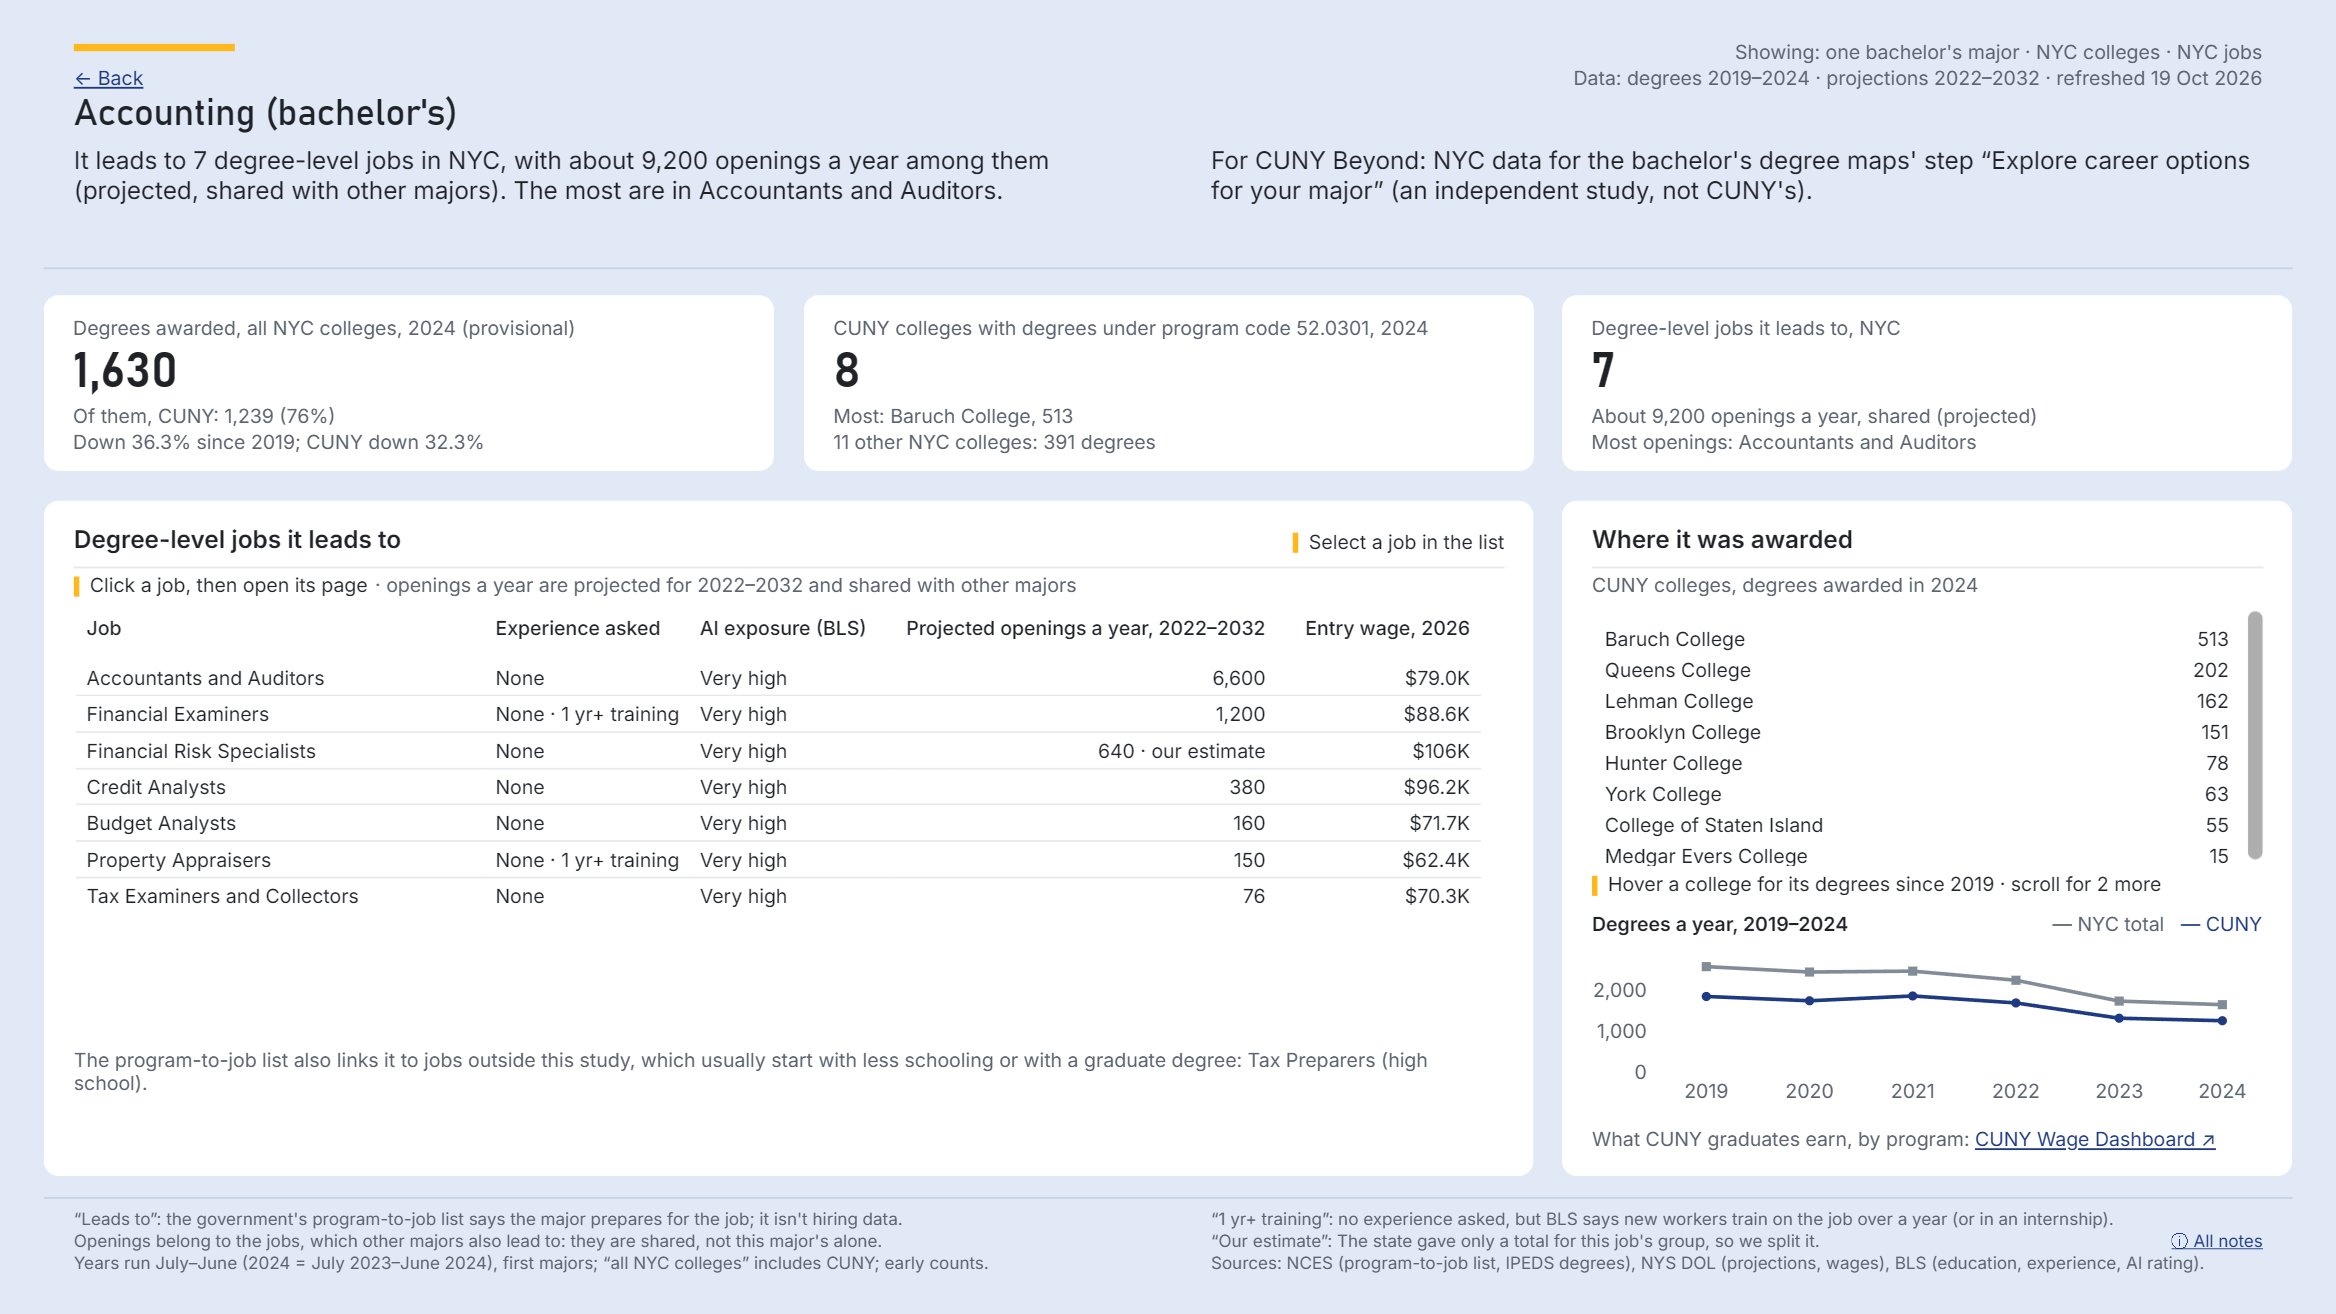

The dashboard page shown, as its layout file describes it:
{"tool":"powerbi","page":{"name":"Major page","canvas":[1280,720],"ordinal":7},"visuals":[{"type":"shape","box":[40,24,88,4],"z":2000},{"type":"actionButton","box":[40,36,60,16],"z":3000},{"type":"shape","box":[40,50,576,52],"z":4000},{"type":"shape","box":[40,104,576,38],"z":5000},{"type":"shape","box":[664,22,576,14],"z":6000},{"type":"shape","box":[664,36,576,14],"z":7000},{"type":"textbox","box":[664,80,576,52],"z":8000},{"type":"shape","box":[24,146,1232,1],"z":9000},{"type":"shape","box":[40,80,576,52],"z":10000},{"type":"image","box":[24,162,400,96],"z":11000},{"type":"image","box":[440,162,400,96],"z":12000},{"type":"image","box":[856,162,400,96],"z":13000},{"type":"shape","box":[24,274,816,370],"z":14000},{"type":"textbox","box":[40,288,560,18],"z":15000},{"type":"actionButton","box":[684,284,140,26],"z":16000},{"type":"image","box":[708,292,3,11],"z":17000},{"type":"shape","box":[40,310,784,1],"z":18000},{"type":"image","box":[40,316,3,11],"z":19000},{"type":"shape","box":[49,314,157,16],"z":20000},{"type":"shape","box":[206,314,618,16],"z":21000},{"type":"tableEx","fields":{"Values":["dim_job.job_label","_Measures.MJ job name","_Measures.MJ job experience","_Measures.MJ job AI","_Measures.MJ job openings","_Measures.MJ job pay","_Measures.MJ job openings sort"]},"box":[40,334,784,232],"z":22000},{"type":"shape","box":[40,338,784,16],"z":23000},{"type":"shape","box":[40,574,784,56],"z":24000},{"type":"shape","box":[856,274,400,370],"z":25000},{"type":"textbox","box":[872,288,368,18],"z":26000},{"type":"shape","box":[872,310,368,1],"z":27000},{"type":"shape","box":[872,314,368,16],"z":28000},{"type":"tableEx","fields":{"Values":["dim_college.college_name","_Measures.MJ college name","_Measures.MJ CUNY college degrees"]},"box":[872,334,368,140],"z":29000},{"type":"image","box":[872,480,3,11],"z":30000},{"type":"shape","box":[881,478,359,16],"z":31000},{"type":"textbox","box":[872,500,160,16],"z":32000},{"type":"textbox","box":[1040,500,200,16],"z":33000},{"type":"lineChart","fields":{"Category":["major_awards_trend.year"],"Y":["_Measures.MJ degrees by year","_Measures.MJ degrees by year CUNY"]},"box":[872,518,368,92],"z":34000},{"type":"textbox","box":[872,618,368,16],"z":35000},{"type":"actionButton","box":[1078,618,140,16],"z":36000},{"type":"shape","box":[40,662,576,12],"z":37000},{"type":"shape","box":[664,662,576,12],"z":38000},{"type":"shape","box":[40,674,576,12],"z":39000},{"type":"shape","box":[664,674,504,12],"z":40000},{"type":"shape","box":[40,686,576,12],"z":41000},{"type":"shape","box":[664,686,576,12],"z":42000},{"type":"shape","box":[24,656,1232,1],"z":43000},{"type":"actionButton","box":[1184,674,56,14],"z":44000}]}

Visuals, with their boxes in screenshot pixels (x1, y1, x2, y2), scaled from the page's 1280x720 canvas onto the 2336x1314 screenshot:
shape: box=[73, 44, 234, 51]
actionButton: box=[73, 66, 182, 95]
shape: box=[73, 91, 1124, 186]
shape: box=[73, 190, 1124, 259]
shape: box=[1212, 40, 2263, 66]
shape: box=[1212, 66, 2263, 91]
textbox: box=[1212, 146, 2263, 241]
shape: box=[44, 266, 2292, 268]
shape: box=[73, 146, 1124, 241]
image: box=[44, 296, 774, 471]
image: box=[803, 296, 1533, 471]
image: box=[1562, 296, 2292, 471]
shape: box=[44, 500, 1533, 1175]
textbox: box=[73, 526, 1095, 558]
actionButton: box=[1248, 518, 1504, 566]
image: box=[1292, 533, 1298, 553]
shape: box=[73, 566, 1504, 568]
image: box=[73, 577, 78, 597]
shape: box=[89, 573, 376, 602]
shape: box=[376, 573, 1504, 602]
tableEx - dim_job.job_label x _Measures.MJ job name: box=[73, 610, 1504, 1033]
shape: box=[73, 617, 1504, 646]
shape: box=[73, 1048, 1504, 1150]
shape: box=[1562, 500, 2292, 1175]
textbox: box=[1591, 526, 2263, 558]
shape: box=[1591, 566, 2263, 568]
shape: box=[1591, 573, 2263, 602]
tableEx - dim_college.college_name x _Measures.MJ college name: box=[1591, 610, 2263, 865]
image: box=[1591, 876, 1597, 896]
shape: box=[1608, 872, 2263, 902]
textbox: box=[1591, 912, 1883, 942]
textbox: box=[1898, 912, 2263, 942]
lineChart - major_awards_trend.year x _Measures.MJ degrees by year: box=[1591, 945, 2263, 1113]
textbox: box=[1591, 1128, 2263, 1157]
actionButton: box=[1967, 1128, 2223, 1157]
shape: box=[73, 1208, 1124, 1230]
shape: box=[1212, 1208, 2263, 1230]
shape: box=[73, 1230, 1124, 1252]
shape: box=[1212, 1230, 2132, 1252]
shape: box=[73, 1252, 1124, 1274]
shape: box=[1212, 1252, 2263, 1274]
shape: box=[44, 1197, 2292, 1199]
actionButton: box=[2161, 1230, 2263, 1256]
